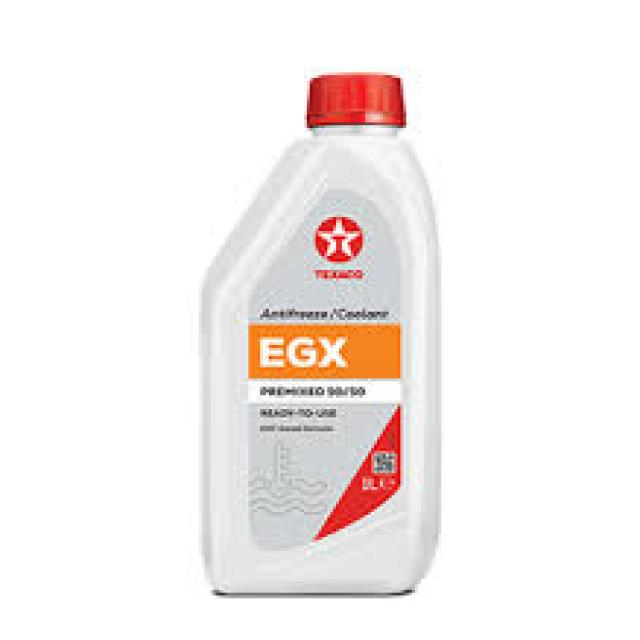coolant: (194, 64, 446, 602)
